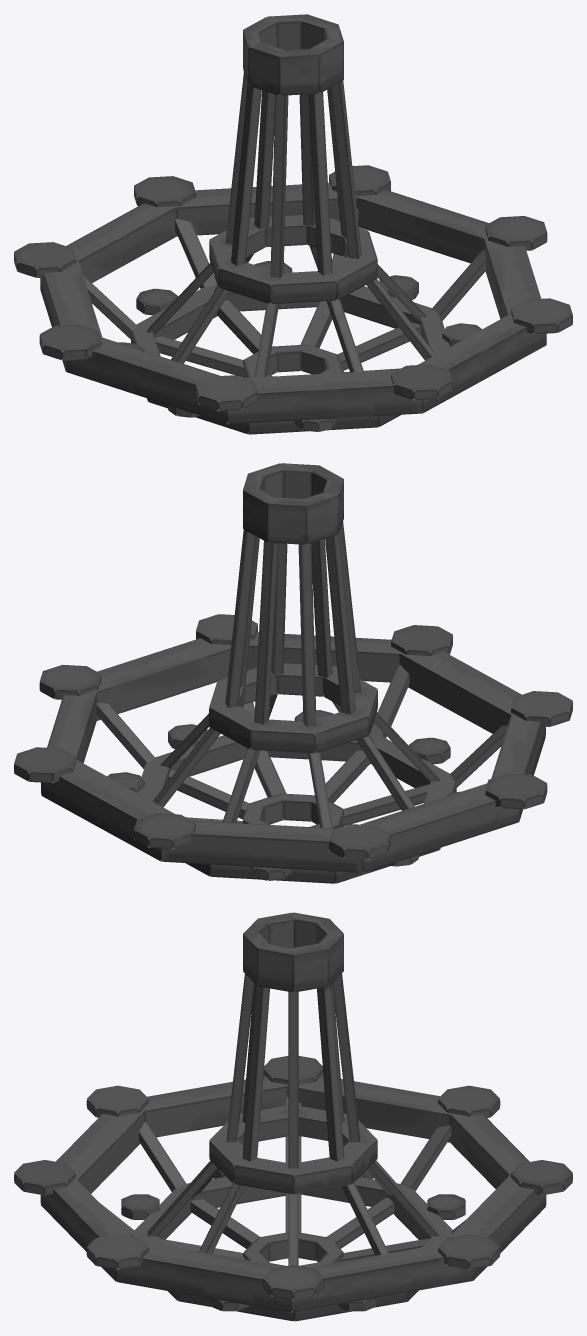
The model's file is chandelier.fbx.
3 views of the same model, one above another, from view 1: azimuth 30°, elevation 25°; view 2: azimuth 150°, elevation 25°; view 3: azimuth 270°, elevation 25° (orthographic). The views are drawn at different scales.
Visible parts, largest first — view 1: middle c; view 2: middle c; view 3: middle c.
Part boxes in pixels (<box>): middle c: <box>14,14,572,434</box>; middle c: <box>14,463,572,883</box>; middle c: <box>14,912,572,1321</box>.
Bounding box in the file's own units: 338 × 225 × 338.
